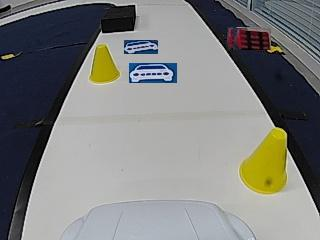block: (101, 5, 136, 32)
cone: (239, 127, 289, 194), (89, 45, 121, 85)
